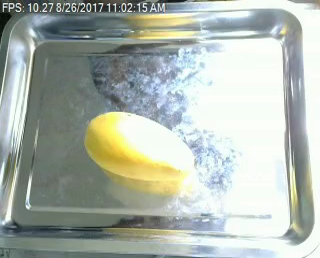Mango: (83, 111, 198, 185)
